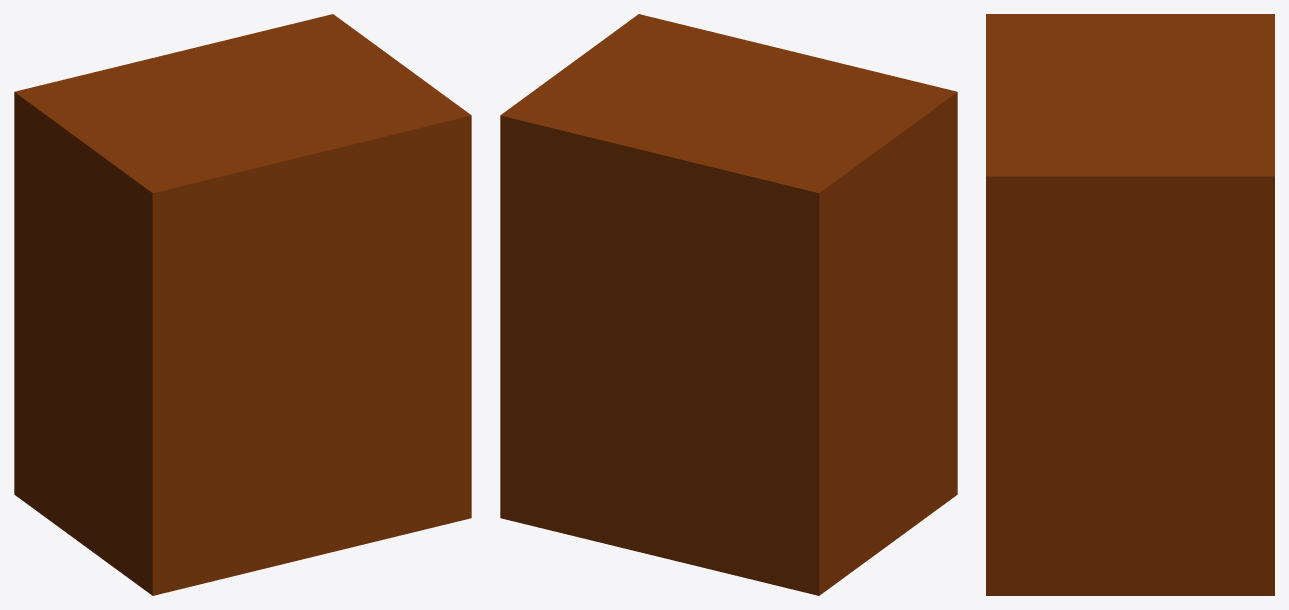
File: darkleafbush.DAE
3 views of the same model, side by side, from view 1: azimuth 30°, elevation 25°; view 2: azimuth 150°, elevation 25°; view 3: azimuth 270°, elevation 25° (orthographic). The views are drawn at different scales.
Visible parts, largest first — view 1: bounds; view 2: bounds; view 3: bounds.
Part boxes in pixels (<box>): bounds: <box>14,14,471,595</box>; bounds: <box>500,14,957,595</box>; bounds: <box>986,14,1274,595</box>.
Size of the model in its own units: 1.25 by 0.9434 by 1.53.
